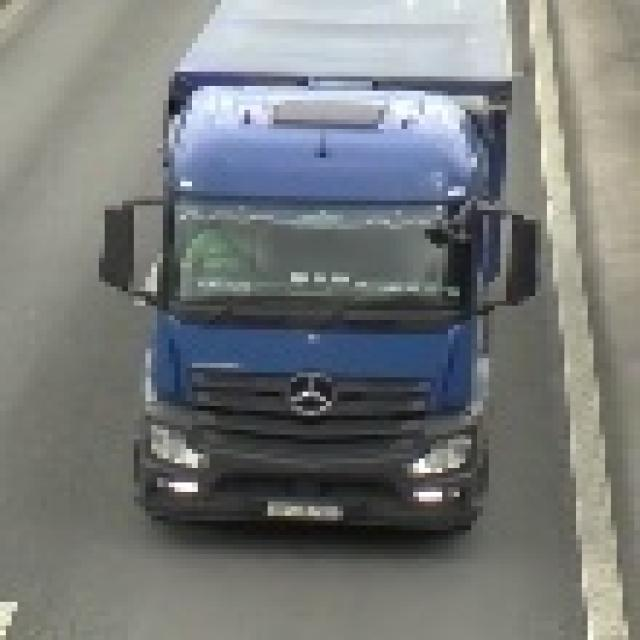TRUCK: (90, 0, 535, 527)
